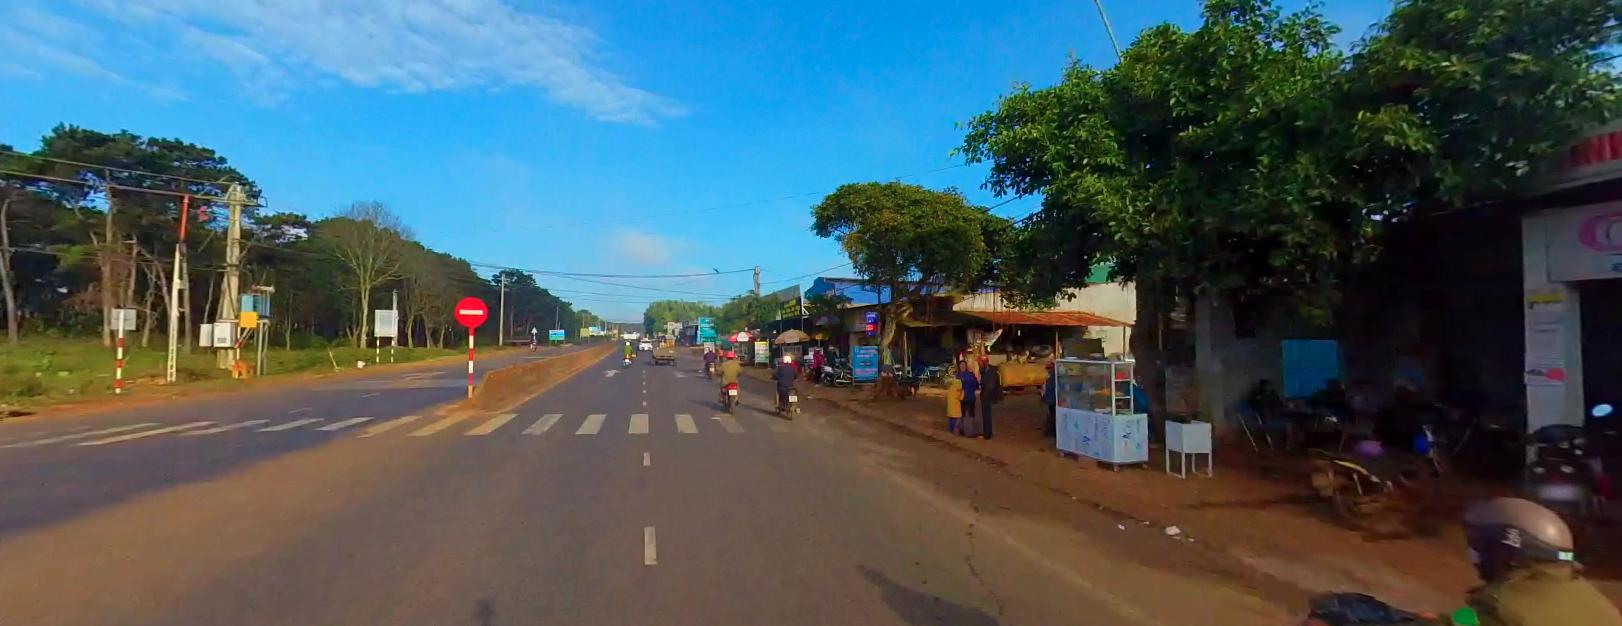Cam nguoc chieu: (452, 294, 488, 325), (454, 295, 488, 325)
